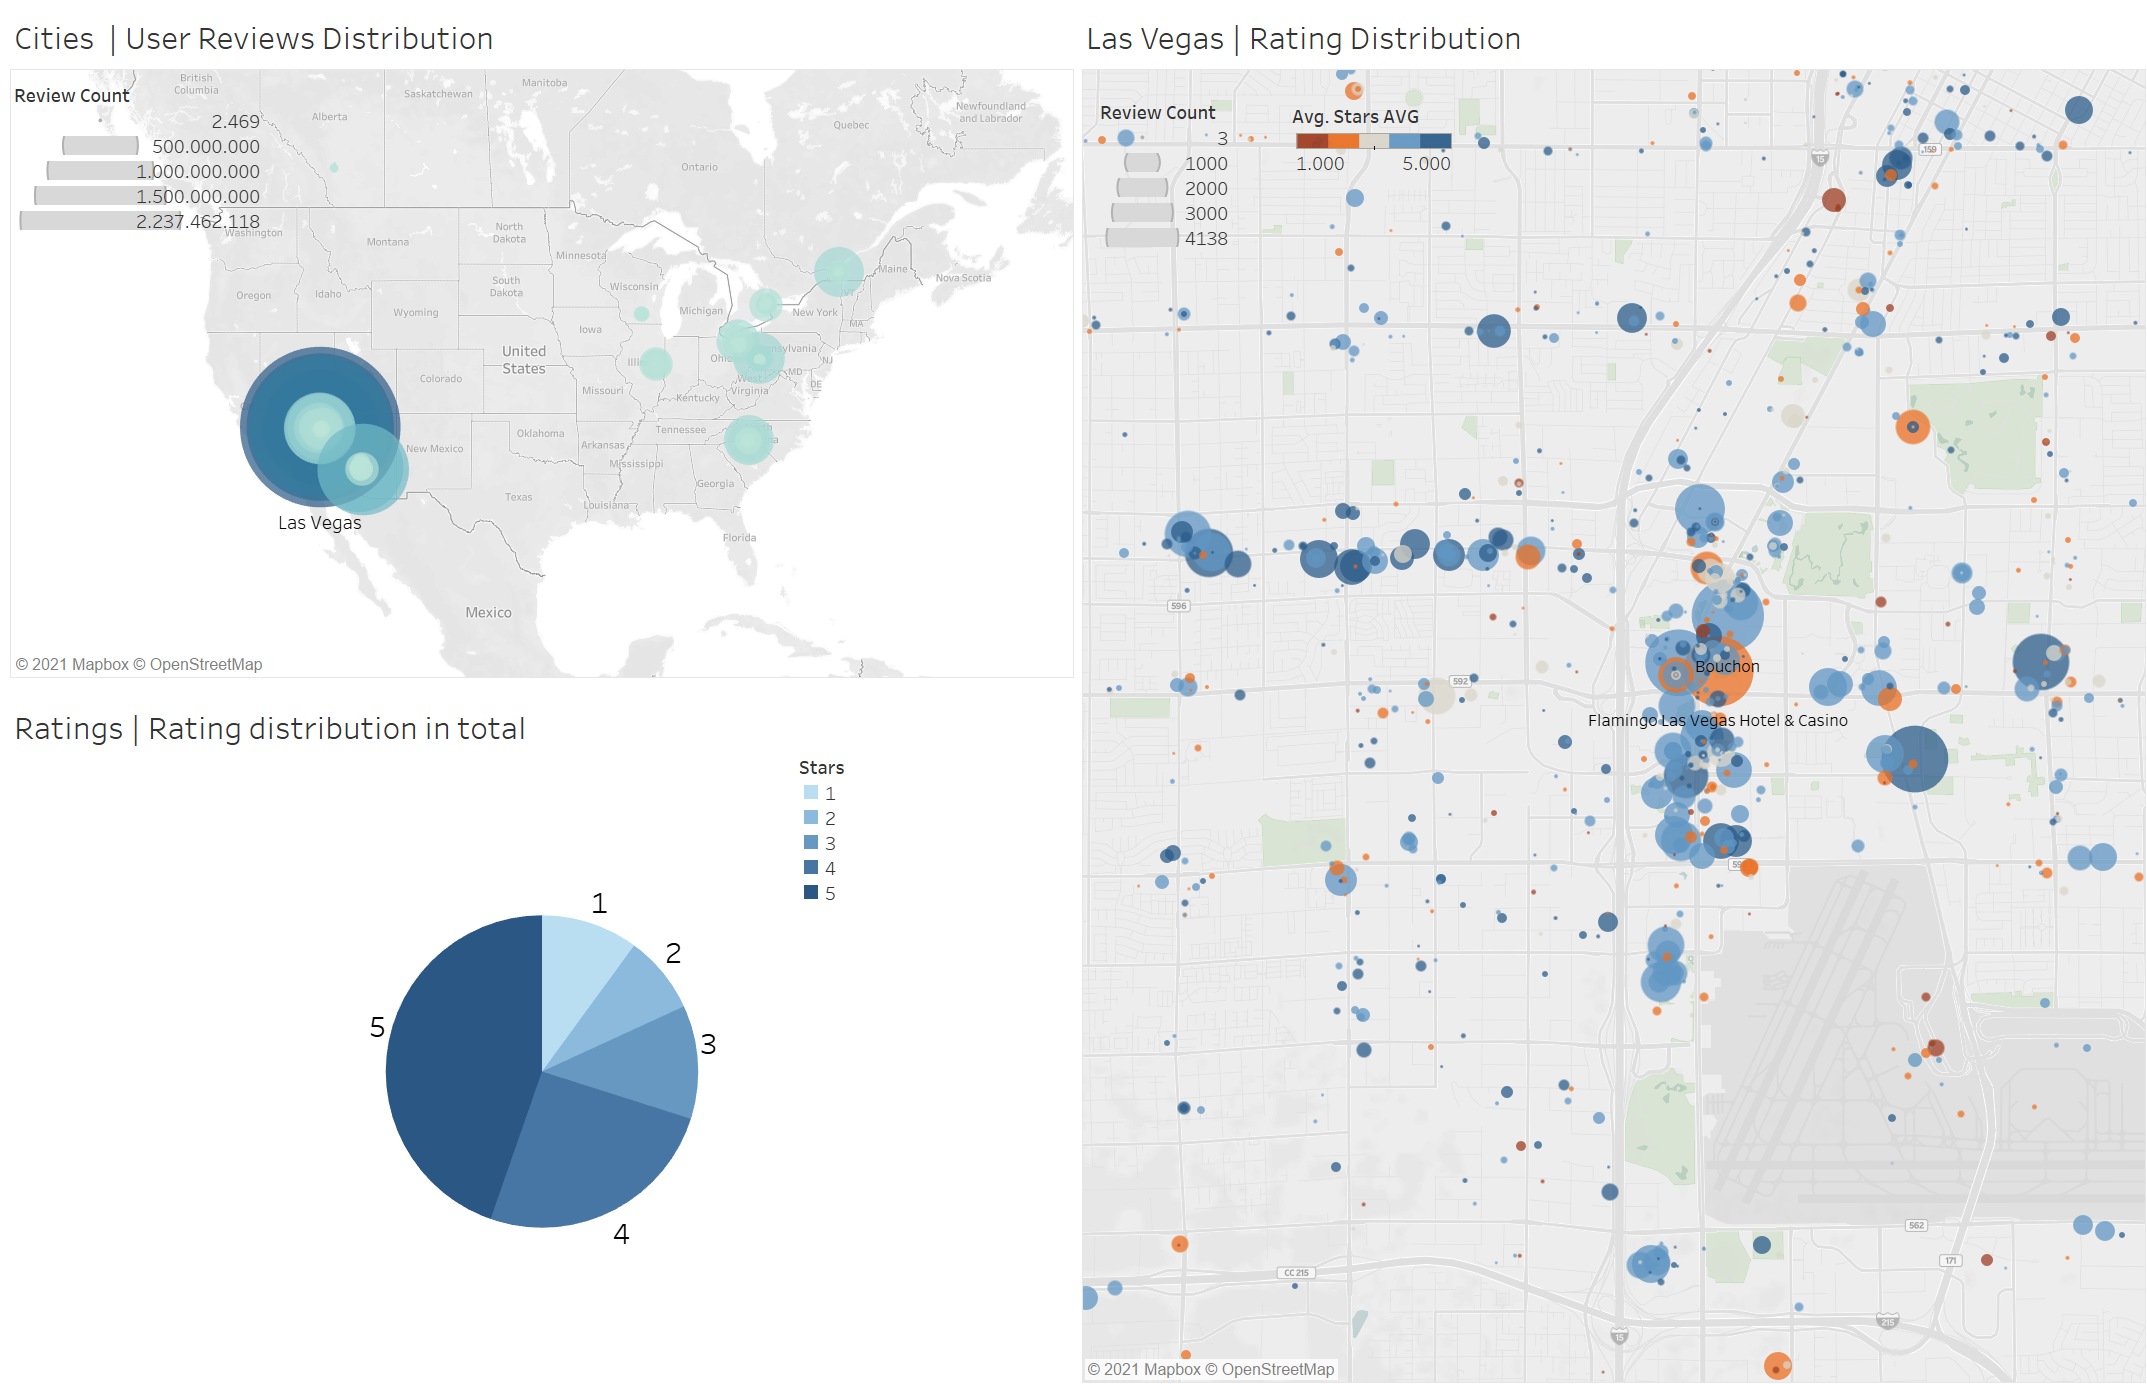

What the dashboard file says about the page in this screenshot:
{"tool":"tableau","page":{"name":"Dashboard General","canvas":[1000,1000],"units":"permille","ordinal":1},"visuals":[{"type":"worksheet","box":[0,0,1000,1000]},{"type":"worksheet","param":"horz","box":[4.3,6.8,991.3,986.4]},{"type":"worksheet","param":"horz","box":[4.3,6.8,991.3,986.4]},{"type":"worksheet","box":[4.3,6.8,991.3,986.4]},{"type":"worksheet","title":"Cities","mark":"Automatic","rows":["latitude"],"cols":["longitude"],"box":[4.3,6.8,495.5,493.2]},{"type":"worksheet","title":"Las Vegas","mark":"Automatic","rows":["latitude"],"cols":["longitude"],"box":[499.9,6.8,495.8,493.2]},{"type":"worksheet","title":"Cities","mark":"Automatic","rows":["latitude"],"cols":["longitude"],"param":"[federated.1omos4b0xc7uyd1aenn3j1dgw0mr].[cnt:labels:qk]","box":[7.6,58.6,116,192.7]},{"type":"worksheet","title":"Las Vegas","mark":"Automatic","rows":["latitude"],"cols":["longitude"],"param":"[federated.1omos4b0xc7uyd1aenn3j1dgw0mr].[avg:stars_x:qk]","box":[911.6,248.7,75.9,84.9]},{"type":"worksheet","title":"Las Vegas","mark":"Automatic","rows":["latitude"],"cols":["longitude"],"param":"[federated.1omos4b0xc7uyd1aenn3j1dgw0mr].[none:review_count:qk]","box":[908.4,352.3,75.9,128.2]},{"type":"worksheet","title":"Rating","mark":"Pie","box":[4.3,500,495.5,493.2]},{"type":"worksheet","title":"Categories","mark":"Automatic","rows":["labels"],"cols":["categories"],"box":[499.9,500,495.8,493.2]},{"type":"worksheet","title":"Rating","mark":"Pie","param":"[federated.1omos4b0xc7uyd1aenn3j1dgw0mr].[none:stars_y:ok]","box":[412.7,515.3,75.9,128.2]}]}

Visuals, with their boxes on the dashboard's canvas, which has no fixed pixel size, in thousandths of its width and height (x1, y1, x2, y2). These are canvas units, not pixel positions in the 2147x1384 screenshot, which may show the page scaled, cropped or inside an application window:
worksheet: <region>0, 0, 1000, 1000</region>
worksheet: <region>4, 7, 996, 993</region>
worksheet: <region>4, 7, 996, 993</region>
worksheet: <region>4, 7, 996, 993</region>
"Cities" worksheet: <region>4, 7, 500, 500</region>
"Las Vegas" worksheet: <region>500, 7, 996, 500</region>
"Cities" worksheet: <region>8, 59, 124, 251</region>
"Las Vegas" worksheet: <region>912, 249, 988, 334</region>
"Las Vegas" worksheet: <region>908, 352, 984, 480</region>
"Rating" worksheet (Pie marks): <region>4, 500, 500, 993</region>
"Categories" worksheet: <region>500, 500, 996, 993</region>
"Rating" worksheet (Pie marks): <region>413, 515, 489, 644</region>
